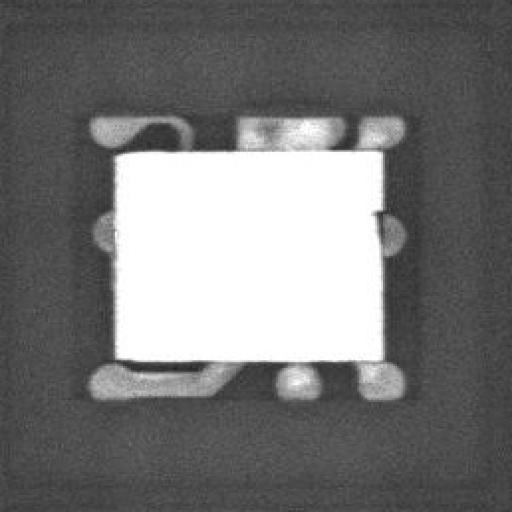DIE_BROKEN: (367, 206, 383, 246)
